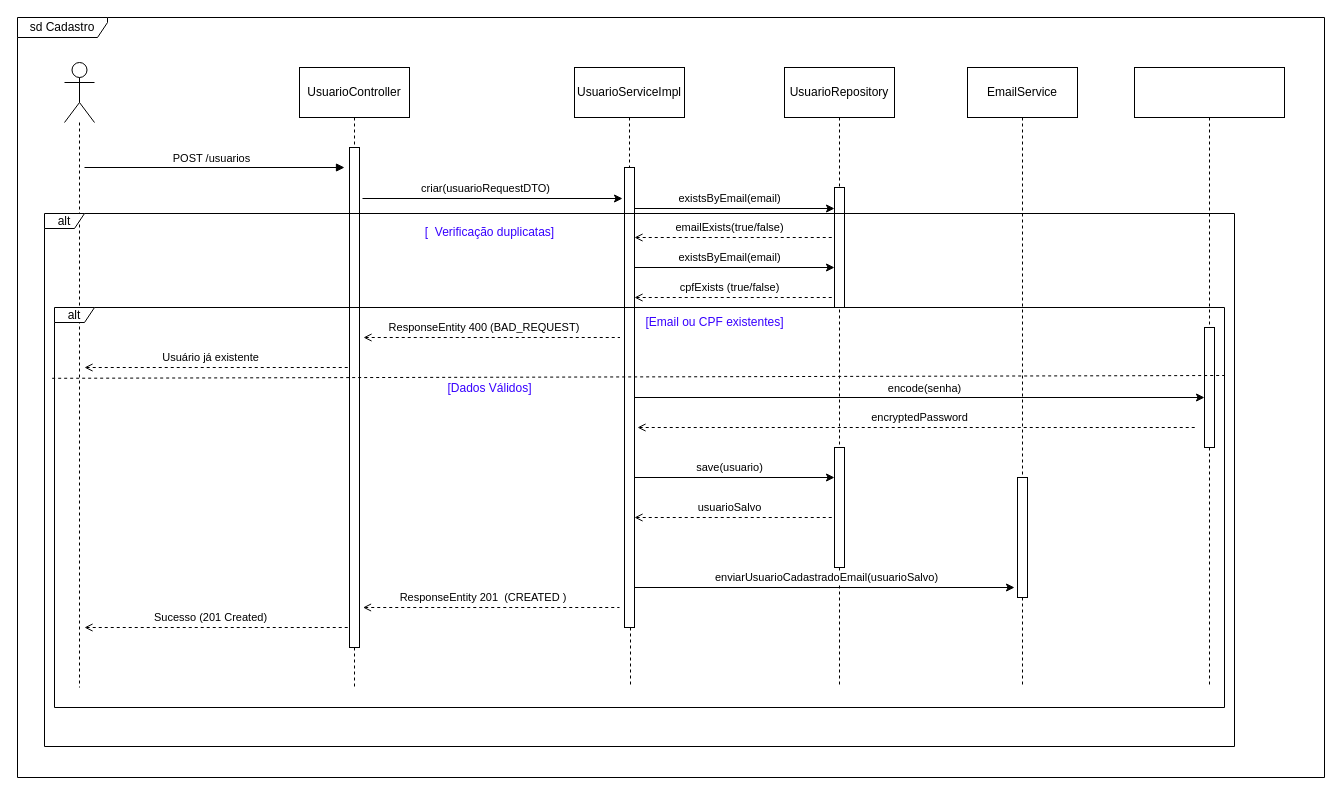
This 1342x795 diagram has some shape labels left out. The box of each missing label's shape, as (x1, y1, x2, y2) in pixels:
BCryptPasswordEncoder: (1134, 66, 1284, 118)
Usuário: (64, 62, 94, 122)
